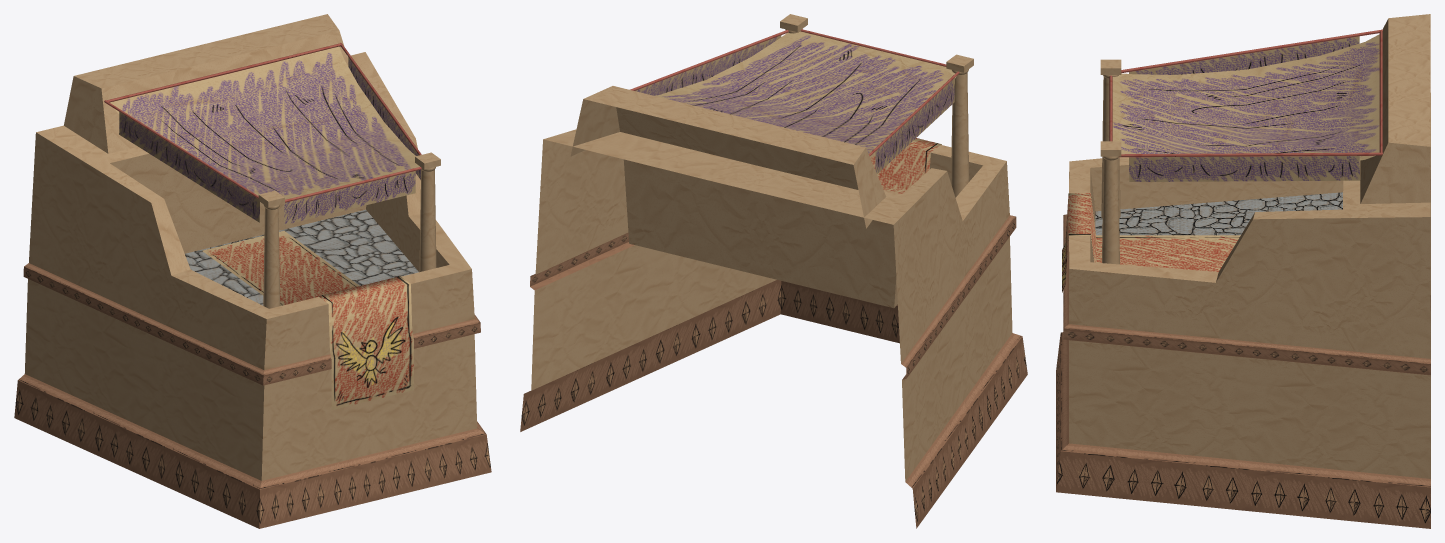
Rendered from ENV_TERRACE_01.FBX.
3 renders of one model, left to right at view 1: azimuth 30°, elevation 25°; view 2: azimuth 150°, elevation 25°; view 3: azimuth 270°, elevation 25°, orthographic. The views are drawn at different scales.
Visible parts, largest first — view 1: ENV_TERRACE_01; view 2: ENV_TERRACE_01; view 3: ENV_TERRACE_01.
Boxes of the visible parts, box(x1,y1,x2,y2) form: ENV_TERRACE_01: box(14, 14, 491, 528); ENV_TERRACE_01: box(520, 14, 1027, 528); ENV_TERRACE_01: box(1056, 14, 1430, 528).
Bounding box in the file's own units: 1349 × 1134 × 1097.
4 materials, 4 textured.
